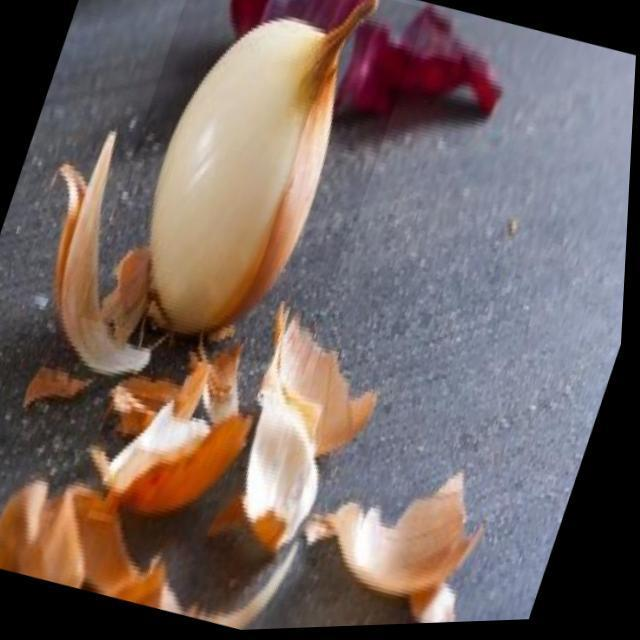Onion: (79, 0, 427, 382)
